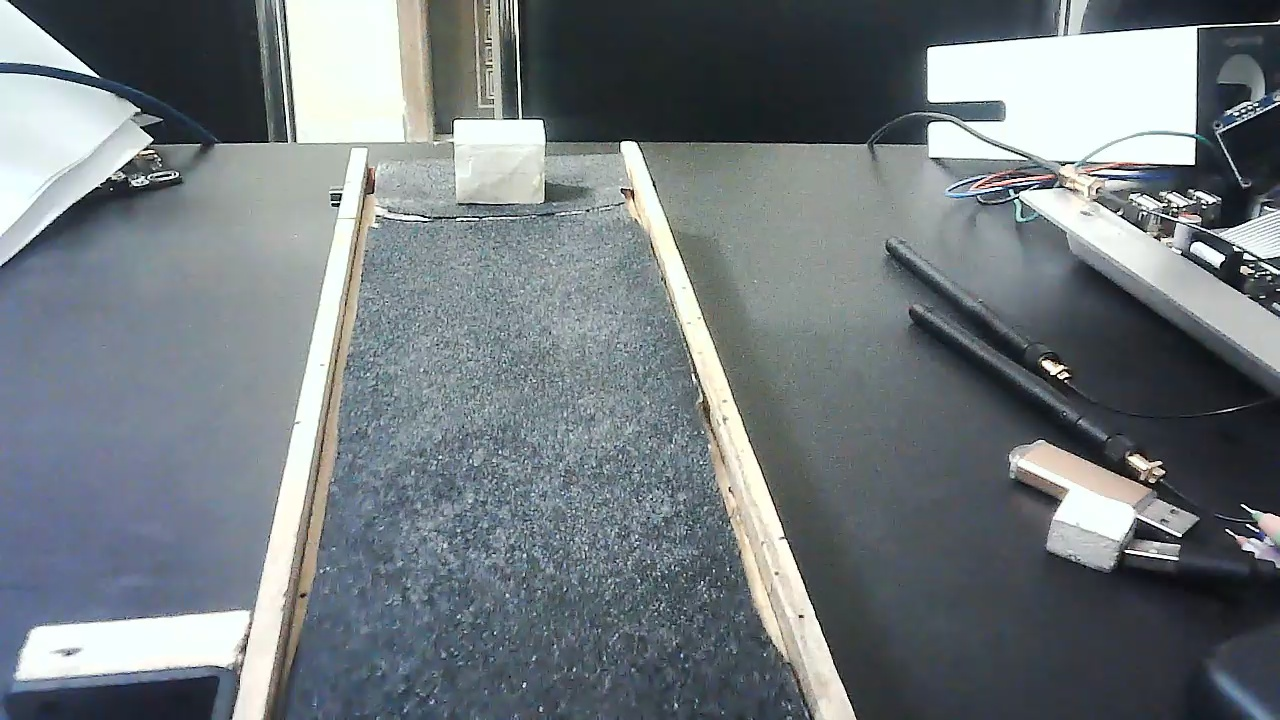Medium: (452, 117, 546, 211)
